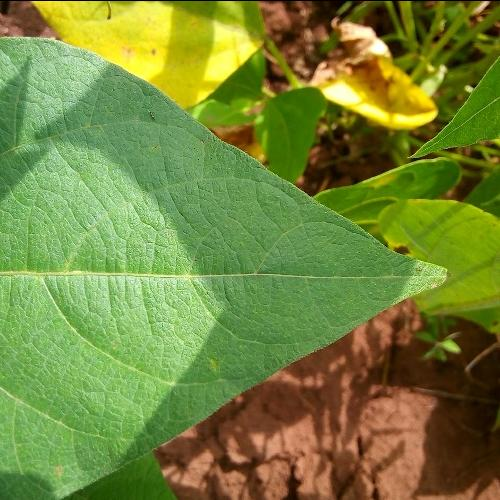sehat: (20, 56, 322, 421)
